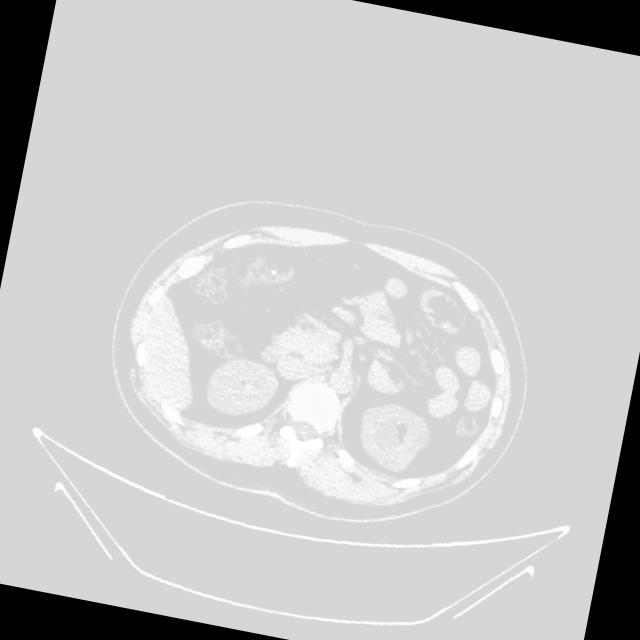cysts: (87, 174, 552, 550)
